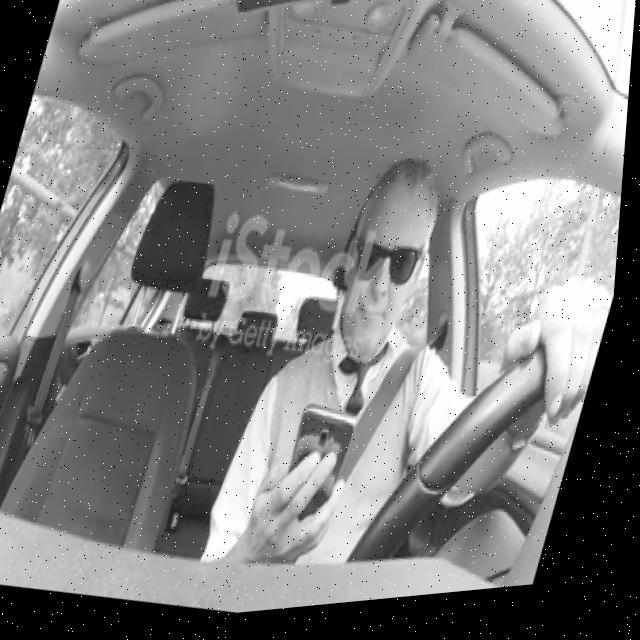PhoneCall: (272, 405, 368, 563)
